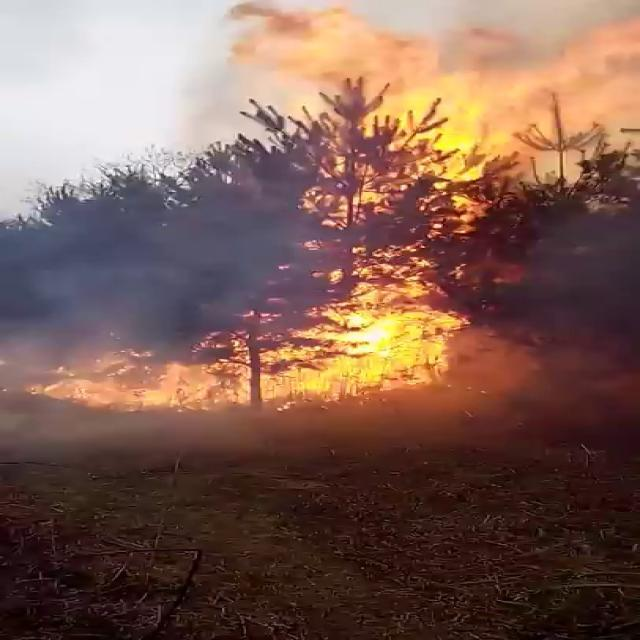Fire: (256, 18, 586, 242), (9, 288, 488, 419)
